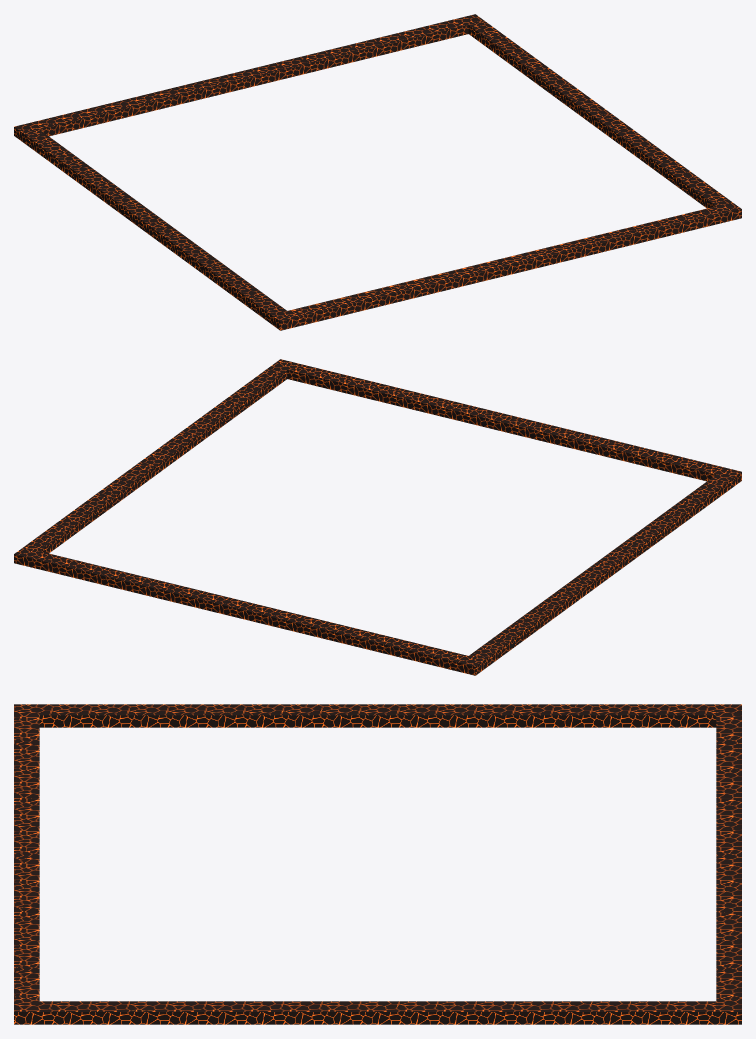
The model's file is frame-skin-5.glb.
3 views of the same model, one above another, from view 1: azimuth 30°, elevation 25°; view 2: azimuth 150°, elevation 25°; view 3: azimuth 270°, elevation 25° (orthographic). The views are drawn at different scales.
Parts seen in each view (by area): view 1: frame-skin-5; view 2: frame-skin-5; view 3: frame-skin-5.
Boxes of the visible parts, bbox=[...] form: frame-skin-5: bbox=[14, 14, 741, 330]; frame-skin-5: bbox=[14, 359, 741, 675]; frame-skin-5: bbox=[14, 704, 741, 1024].
Bounding box in the file's own units: 17 × 0.32 × 17.
Materials: 1 (1 with a texture image).
